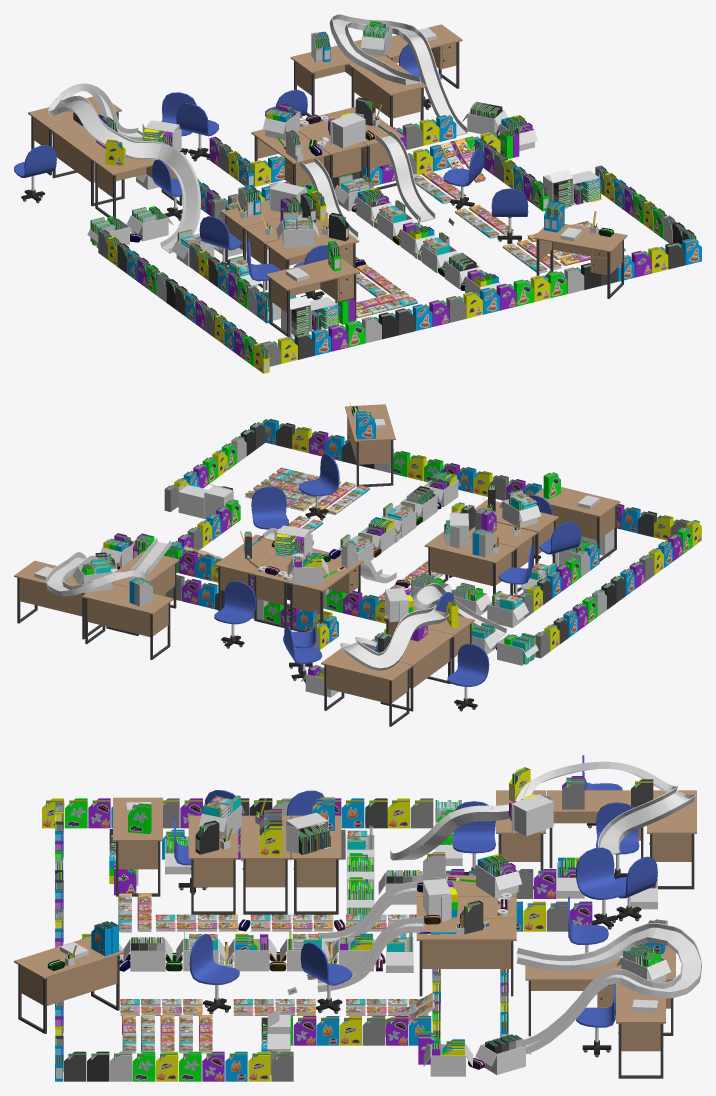
Rendered from track 3.fbx.
3 views of the same model, one above another, from view 1: azimuth 30°, elevation 25°; view 2: azimuth 150°, elevation 25°; view 3: azimuth 270°, elevation 25° (orthographic). The views are drawn at different scales.
Visible parts, largest first — view 1: Plane.006, Plane.005, meja.013, meja.001, meja.005, meja.007, Plane.003, meja.008, meja.014, meja.009, meja.003, meja.004 (+23 smaller); view 2: meja.014, Plane.006, meja.006, meja.002, meja.013, Plane.005, meja.004, meja.008, meja.001, meja.007, meja.010, meja.003 (+23 smaller); view 3: Plane.005, Plane.006, meja.001, meja.010, meja.013, meja.004, meja.012, meja.006, meja.011, meja.002, kursi.004, meja.005 (+75 smaller).
Part boxes in pixels (box(x1,y1,x2,y2)): Plane.006: box(47, 83, 200, 253); Plane.005: box(329, 14, 467, 136); meja.013: box(266, 258, 359, 337); meja.001: box(533, 224, 627, 298); meja.005: box(348, 55, 426, 127); meja.007: box(49, 121, 124, 206); Plane.003: box(375, 130, 435, 222); meja.008: box(251, 129, 329, 185); meja.014: box(290, 39, 379, 116); meja.009: box(91, 155, 185, 217); meja.003: box(298, 114, 366, 184); meja.004: box(385, 24, 462, 88); meja.014: box(82, 583, 173, 659); Plane.006: box(340, 583, 506, 670); meja.006: box(321, 648, 412, 726); meja.002: box(424, 531, 516, 595); meja.013: box(534, 487, 620, 561); Plane.005: box(46, 537, 171, 596); meja.004: box(14, 560, 102, 639); meja.008: box(287, 552, 363, 631); meja.001: box(345, 404, 395, 486); meja.007: box(380, 628, 454, 711); meja.010: box(215, 534, 276, 611); meja.003: box(251, 548, 327, 628); Plane.005: box(516, 923, 701, 1053); Plane.006: box(390, 761, 695, 860); meja.001: box(14, 936, 123, 1033); meja.010: box(416, 918, 516, 996); meja.013: box(113, 797, 162, 896); meja.004: box(616, 980, 665, 1078); meja.012: box(240, 815, 290, 914); meja.006: box(647, 790, 696, 889); meja.011: box(188, 815, 238, 914); meja.002: box(291, 815, 341, 914); kursi.004: box(576, 847, 625, 929); meja.005: box(525, 958, 621, 1036).
Size of the model in its own units: 746 by 140 by 826.
